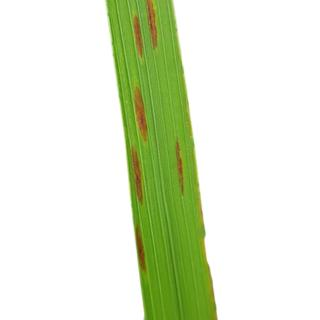Bercak-Cokelat-Sempit: (142, 0, 171, 51), (130, 80, 150, 148), (168, 139, 189, 199), (127, 145, 147, 208), (130, 224, 152, 279), (128, 17, 147, 60)
